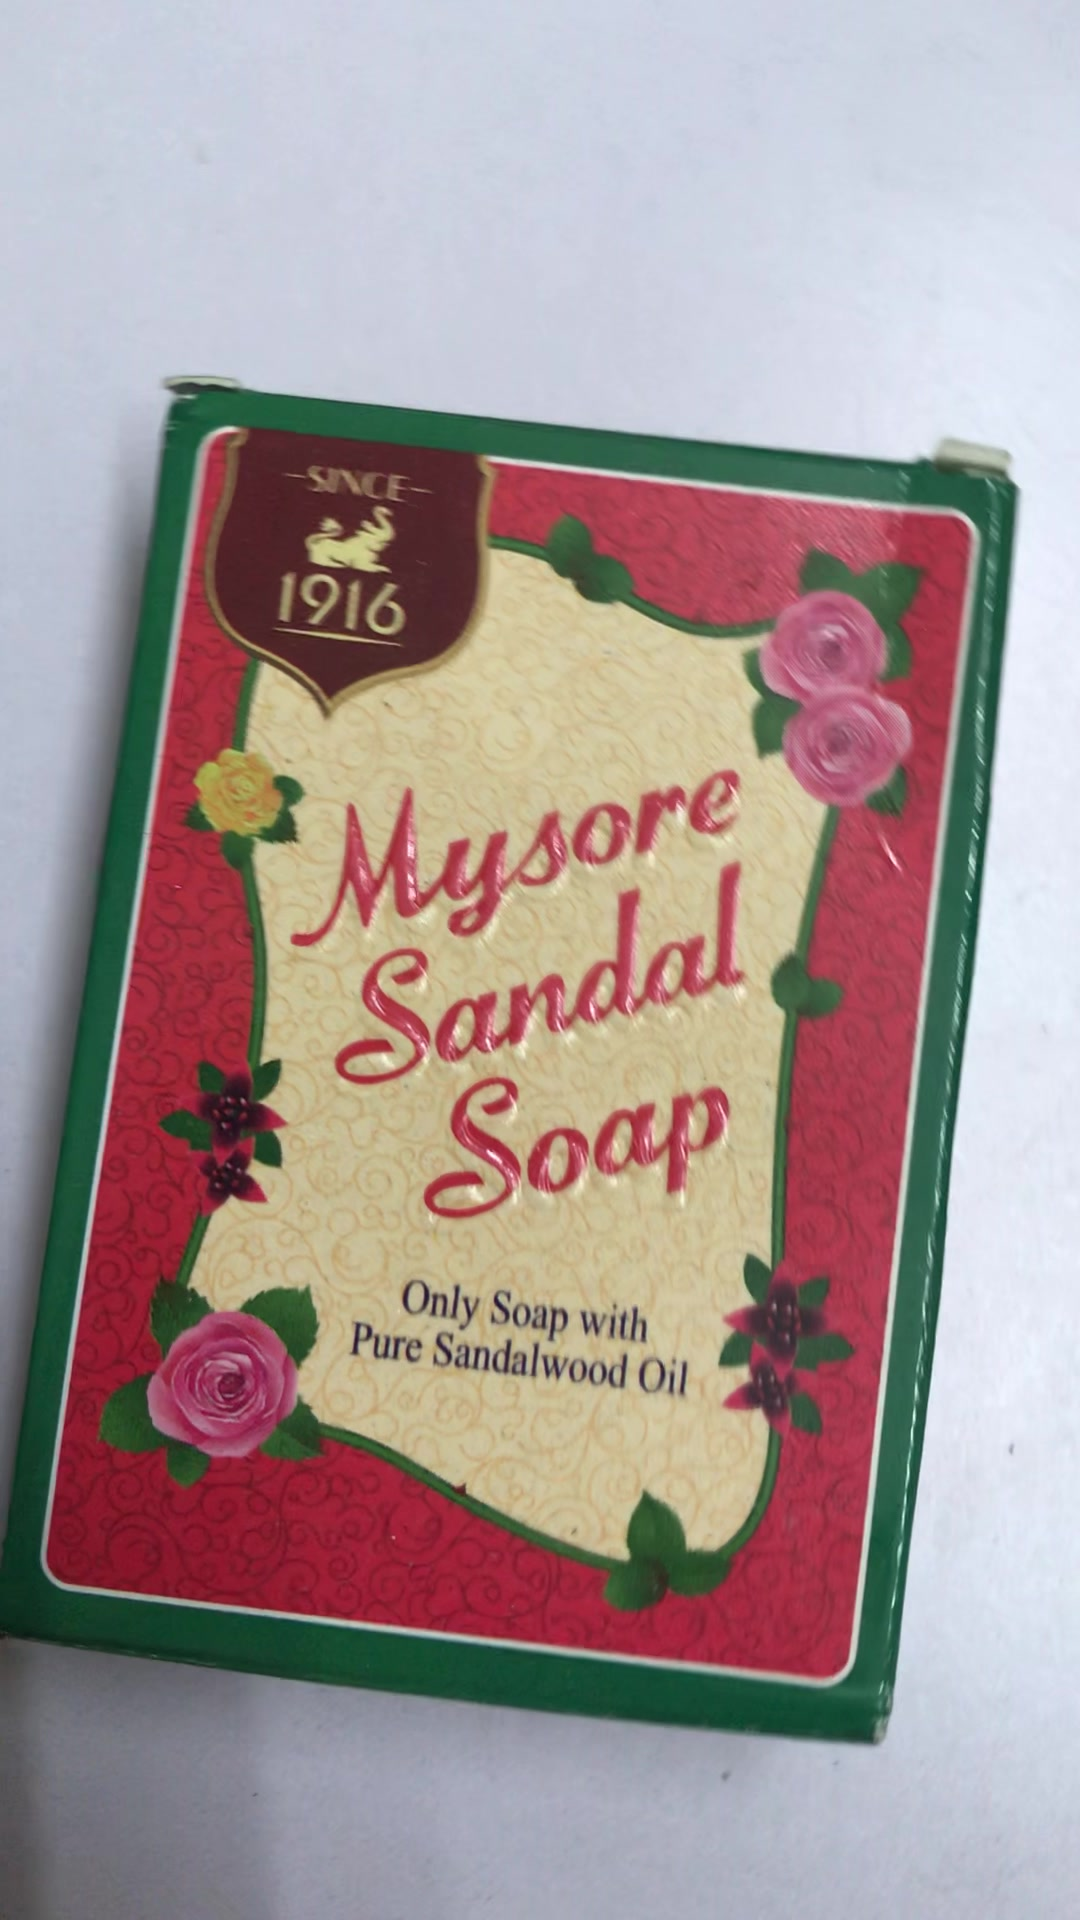mysore sandal soap: (13, 377, 1021, 1749)
